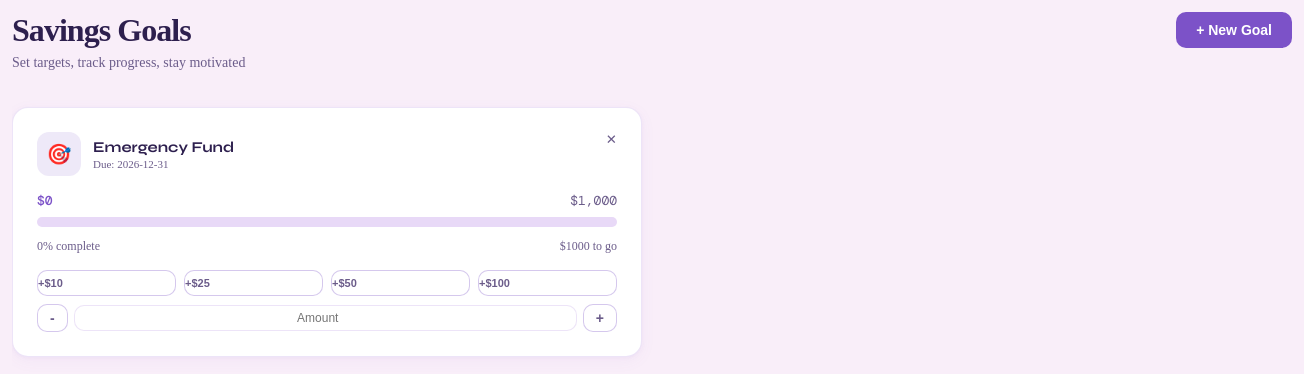
Test: Goals Interactions › contributes to a goal when +$10 is clicked
The width and height of the screenshot is (1304, 374).
Expected: the text "Emergency Fund" is shown, [93,138,234,156]
Click the button "+$10". click: (106, 283)
box: [37,270,176,296]
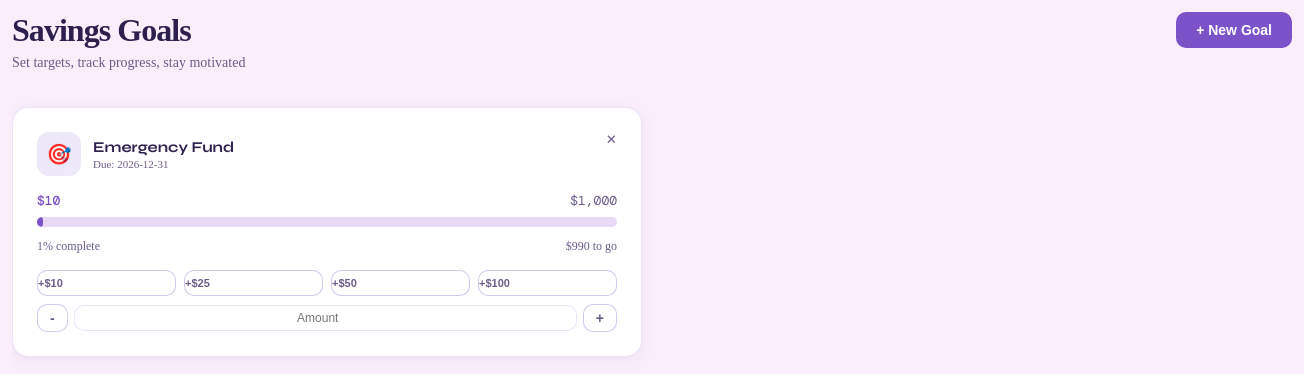
Expected: the text "1% complete" is shown, [37,239,100,254]
